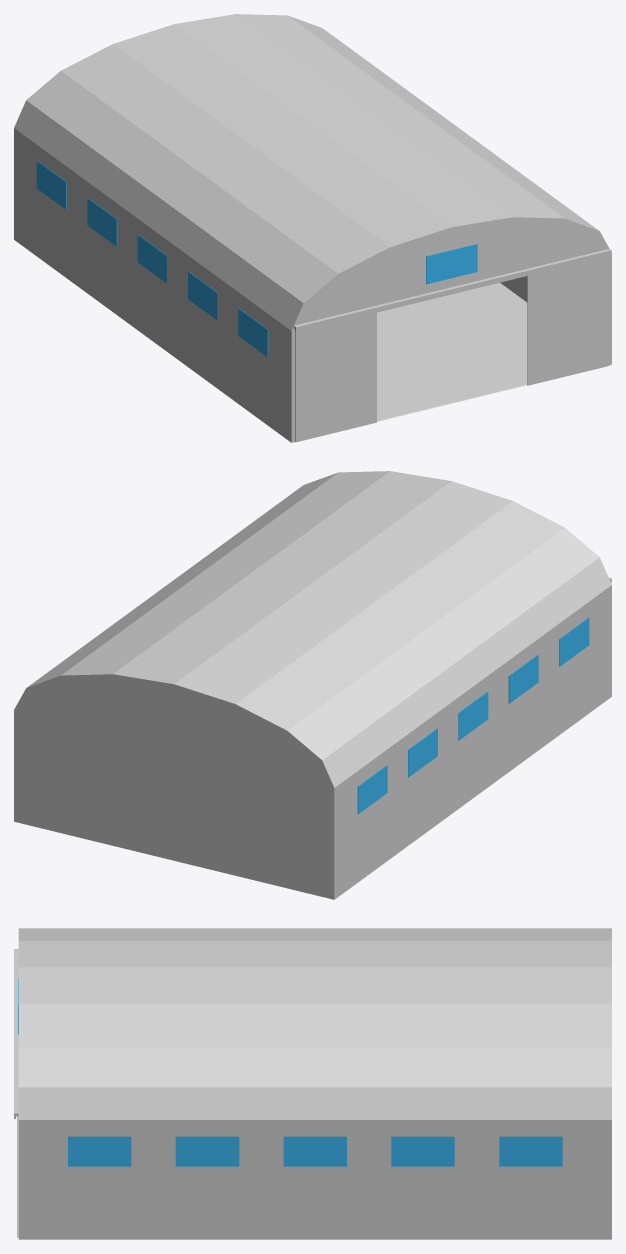
The model's file is Object_robotBase_Hangar.fbx.
The picture shows the model from 3 angles, top to bottom: view 1: azimuth 30°, elevation 25°; view 2: azimuth 150°, elevation 25°; view 3: azimuth 270°, elevation 25°; orthographic projection. The views are drawn at different scales.
Visible parts, largest first — view 1: hangar cilindro; view 2: hangar cilindro; view 3: hangar cilindro.
Part boxes in pixels (x1,y1,x2,y2): hangar cilindro: [14, 14, 611, 442]; hangar cilindro: [14, 471, 611, 899]; hangar cilindro: [14, 928, 611, 1239].
Bounding box in the file's own units: 12.03 × 6.32 × 18.14.
